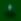green: (0, 0, 21, 21)
